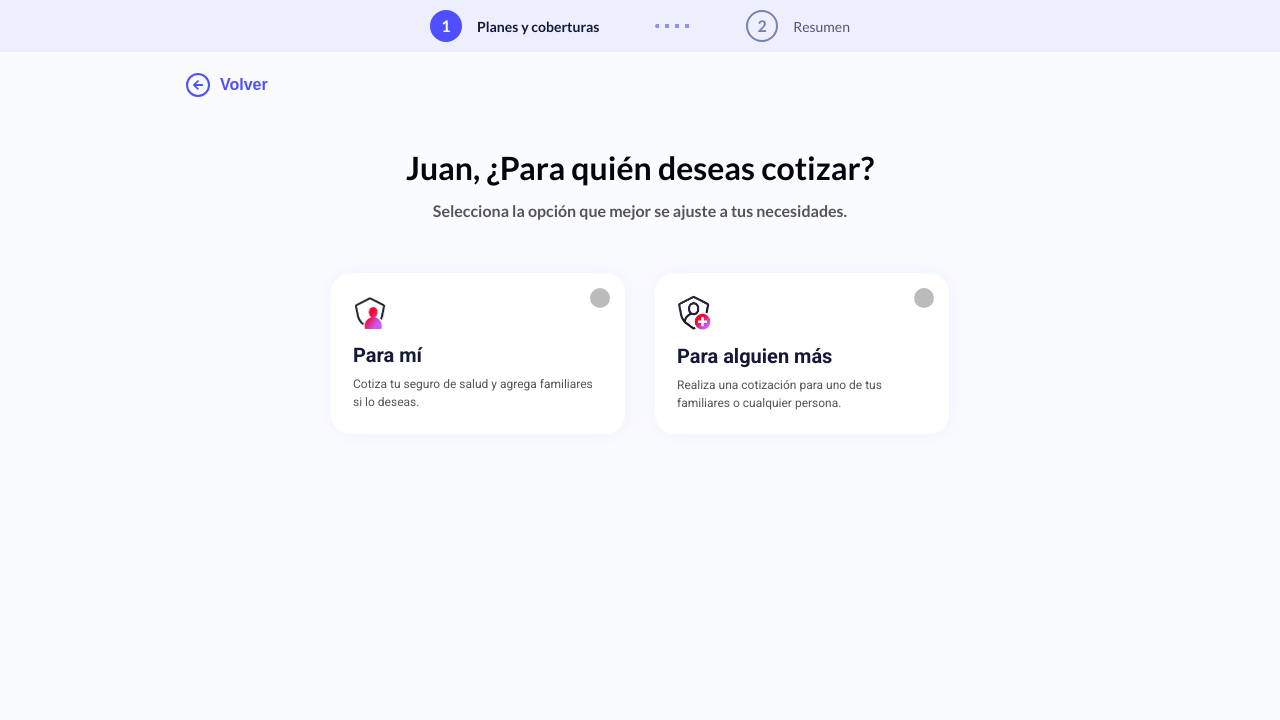
Test case: InsurancePage › Selección de opciones de usuario › debe mostrar los planes después de seleccionar una opción
What coordinates should you click on to do the following:
click the radio button named "para mí"
I would click on:
 (600, 298)
Its box is [590,288,610,308].
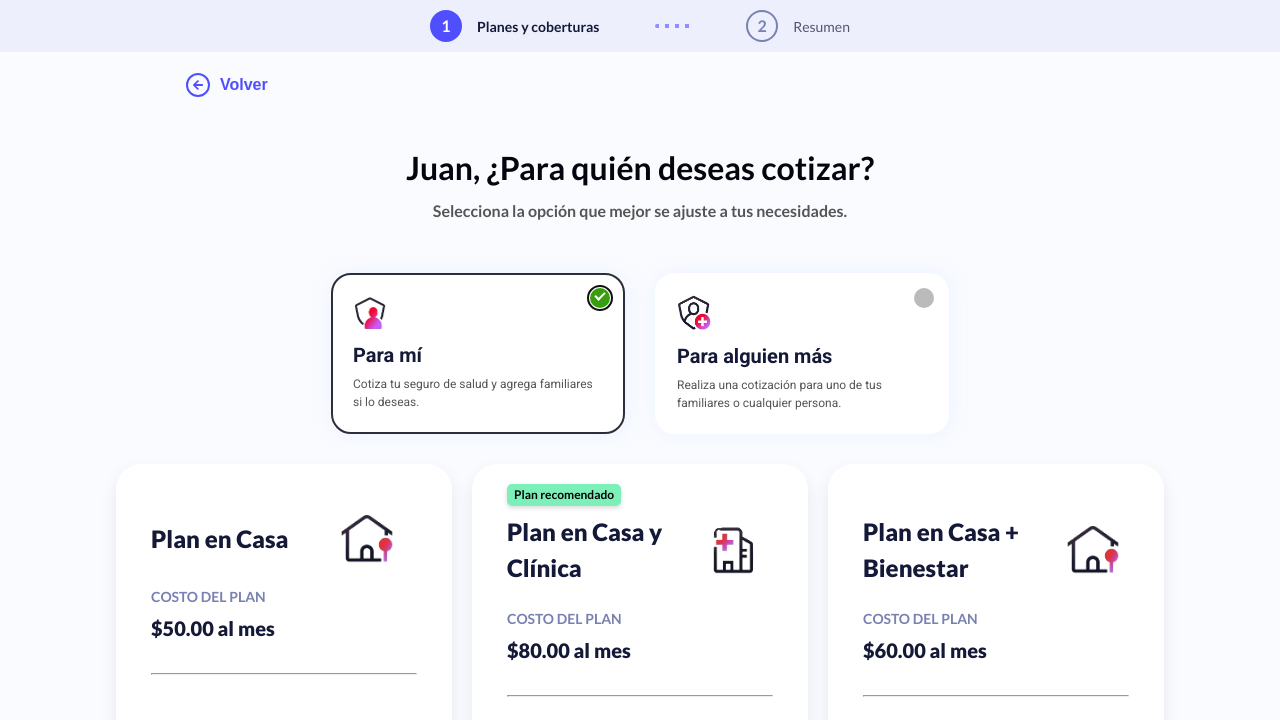
Now the heading "Plan en Casa" is shown, box [151,521,288,557]
Now the heading "Plan en Casa y Clínica" is shown, box [507,517,662,582]
